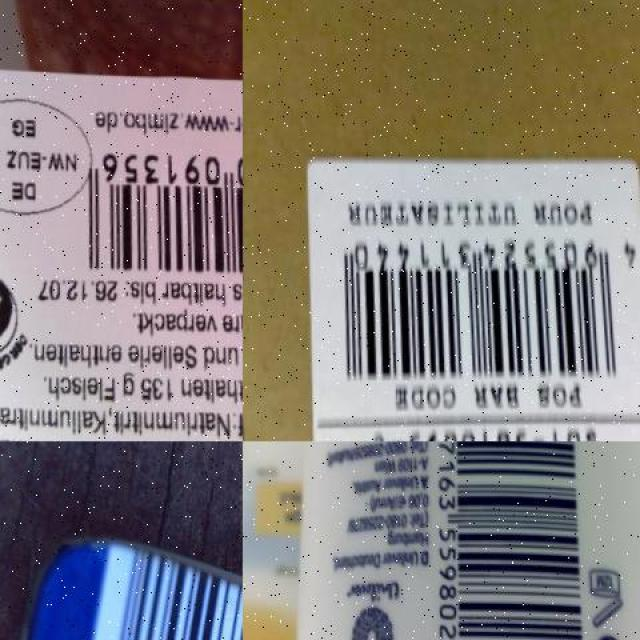Barcode: (308, 231, 640, 385), (423, 441, 585, 640), (66, 136, 242, 281), (70, 529, 242, 640)
